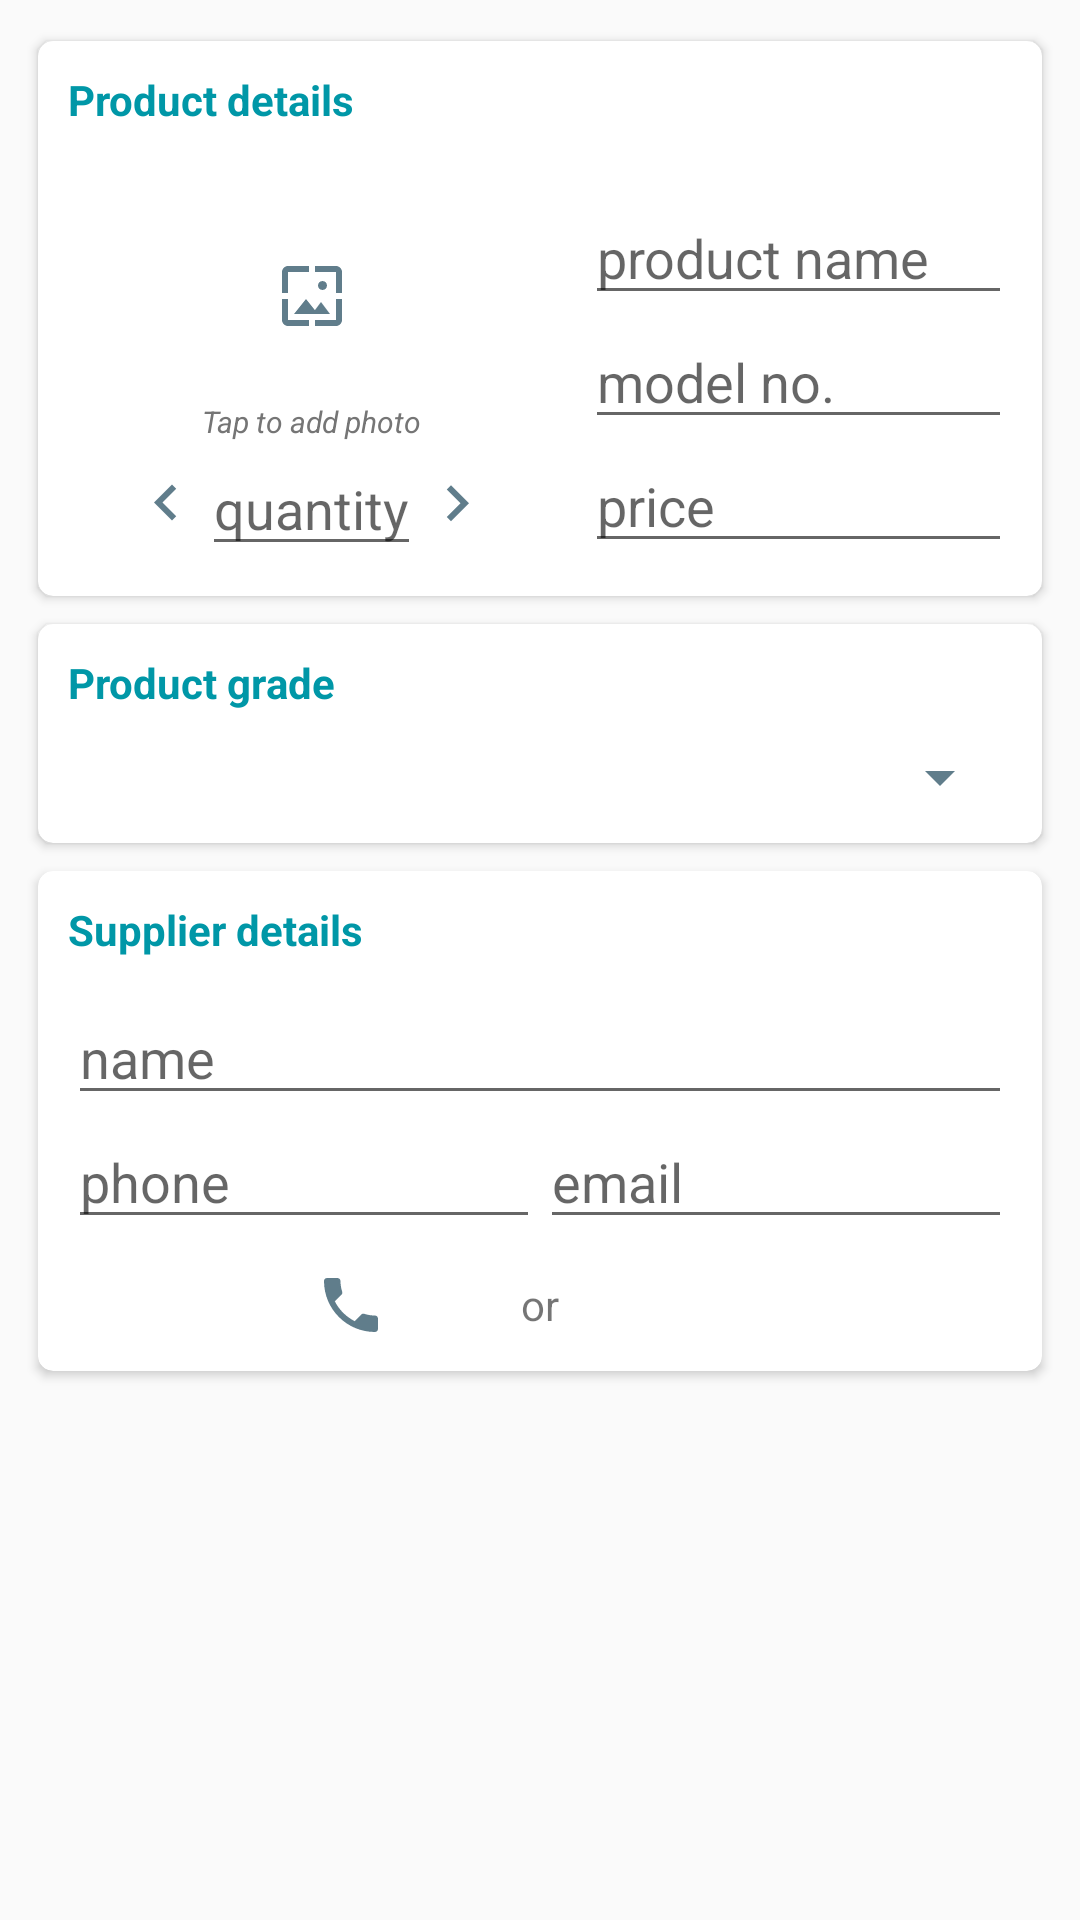

Icon bounding boxes for this 1080px x 1920px phone screenshot, format rect(x1, y1, x2, y2):
arrow left: rect(154, 485, 176, 520)
arrow right: rect(447, 485, 469, 521)
call: rect(324, 1278, 378, 1332)
